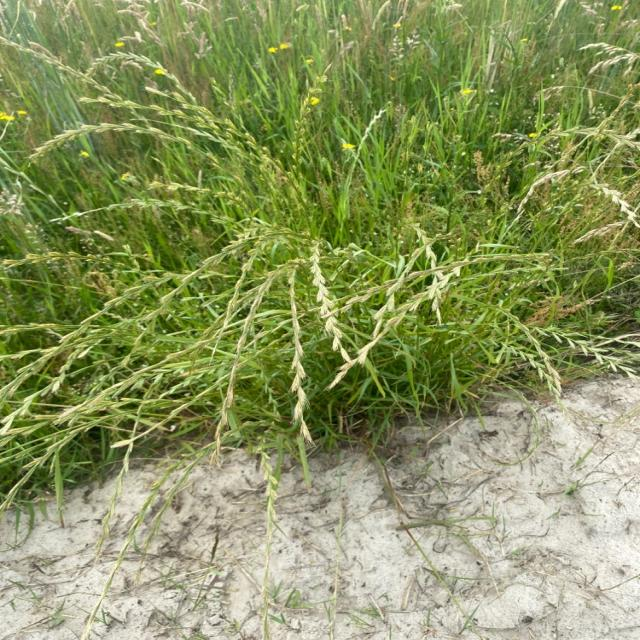Lolium: (0, 37, 303, 205), (198, 238, 337, 476), (130, 225, 288, 388), (60, 309, 273, 422), (0, 269, 164, 408), (0, 314, 158, 443), (329, 266, 467, 378), (520, 324, 640, 395), (480, 329, 574, 398), (309, 224, 352, 366), (500, 309, 566, 397), (378, 242, 427, 354), (552, 124, 640, 161), (586, 179, 640, 222), (586, 35, 640, 75), (518, 173, 589, 197)
